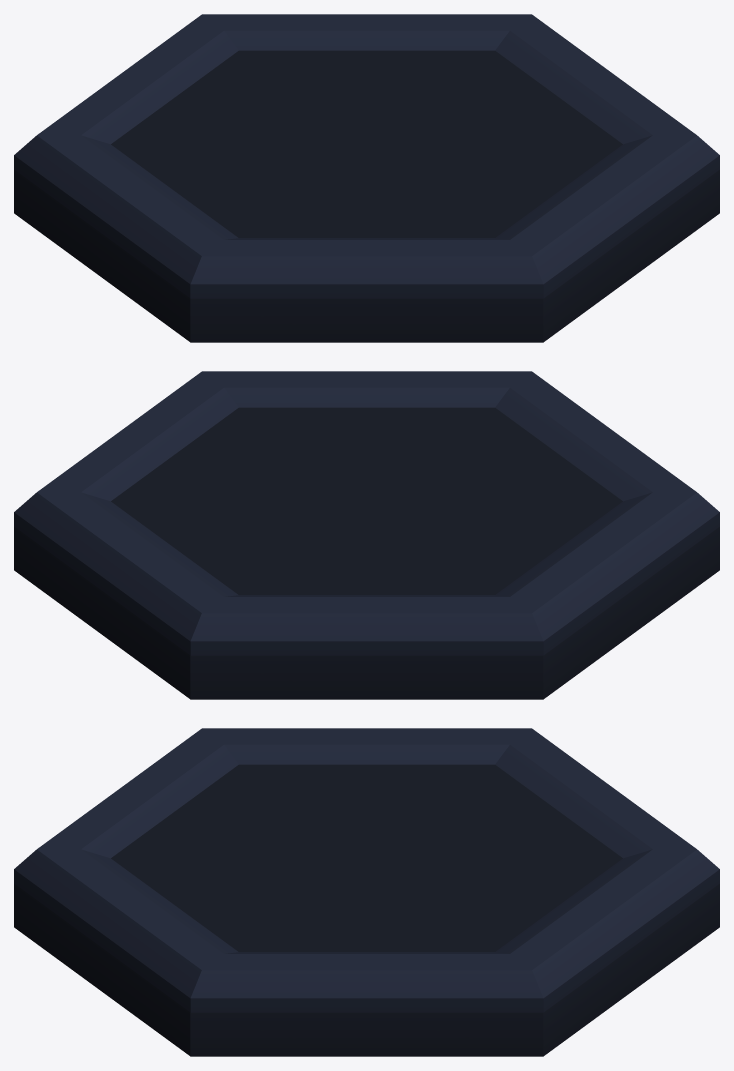
File: Hexagon 17.FBX
The picture shows the model from 3 angles, top to bottom: view 1: azimuth 30°, elevation 25°; view 2: azimuth 150°, elevation 25°; view 3: azimuth 270°, elevation 25°; orthographic projection.
Parts seen in each view (by area): view 1: Hexagon 17; view 2: Hexagon 17; view 3: Hexagon 17.
Part boxes in pixels (x1,y1,x2,y2): Hexagon 17: (14, 14, 719, 342); Hexagon 17: (14, 371, 719, 699); Hexagon 17: (14, 728, 719, 1056).
Bounding box in the file's own units: 280 × 39.42 × 323.
Materials: 1 (1 with a texture image).
